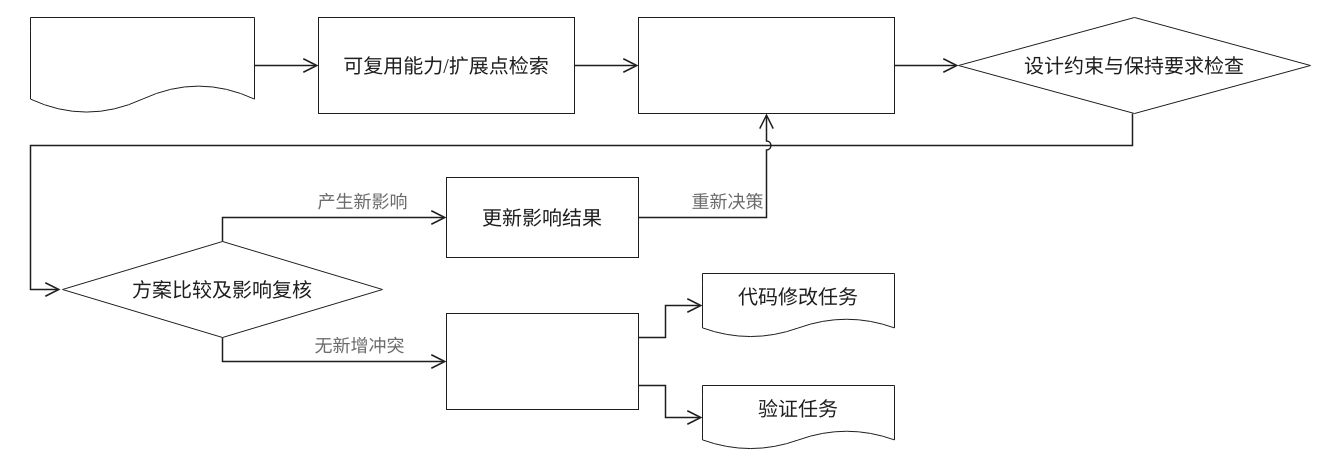
This 1329x467 diagram has some shape labels left out. The box of each missing label's shape, as (x1, y1, x2, y2) in pixels:
代码修改任务映射: (446, 312, 638, 410)
候选修改策略形成: (638, 16, 894, 114)
变更目标与影响范围: (30, 16, 254, 114)
